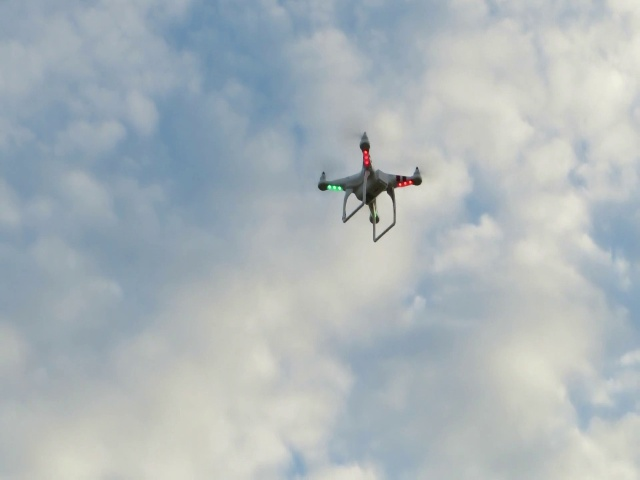drone: (309, 120, 439, 246)
